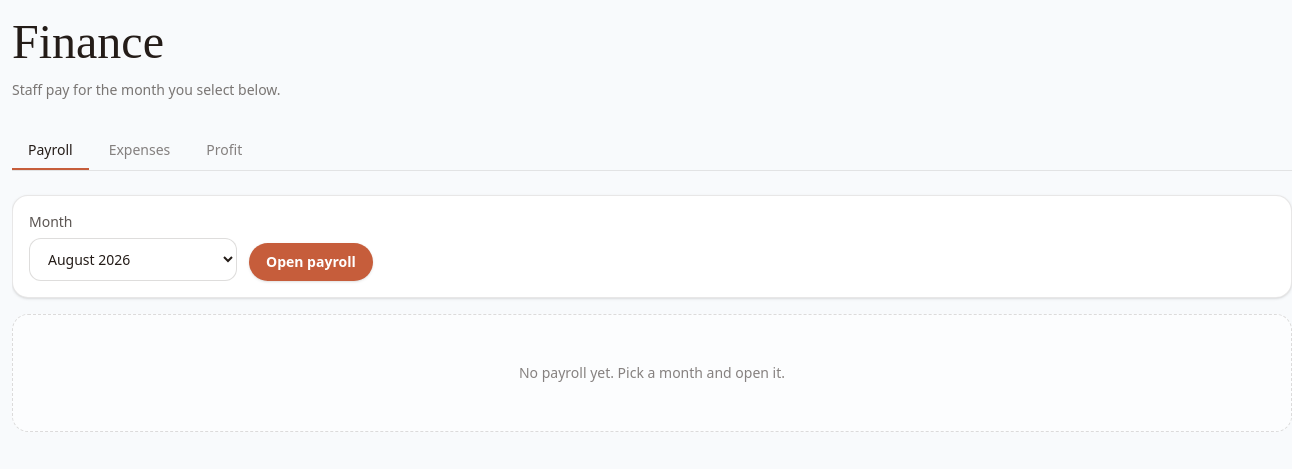
FinanceView — the phone (md:hidden) expense log › renders both branches, and the card carries every column the table row does
Click the button "Expenses" at (140, 151), box x1=93 y1=132 x2=186 y2=170
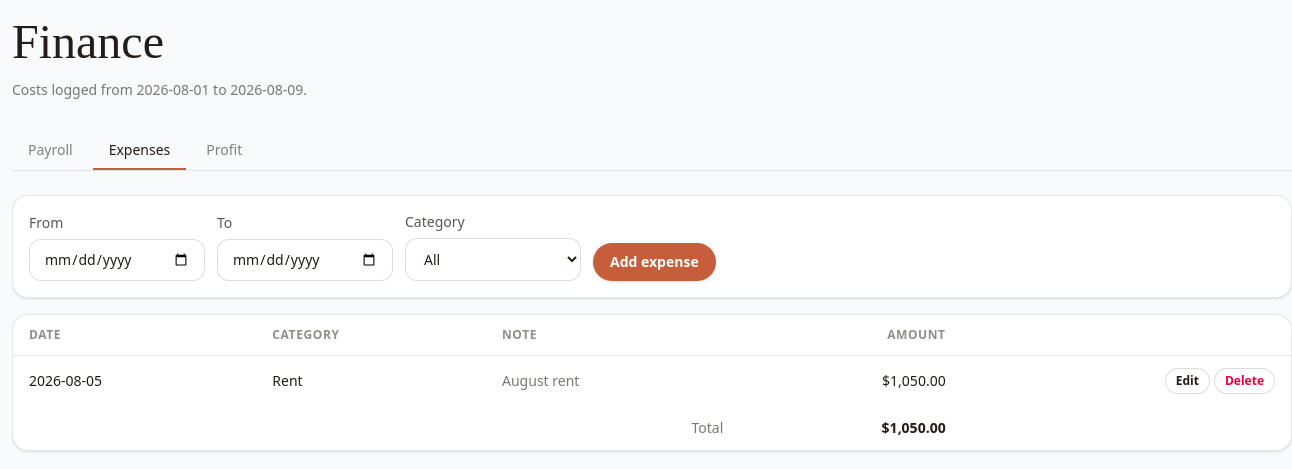
Expected: the element that starts with "Date" is shown, x1=12 y1=314 x2=1291 y2=451
